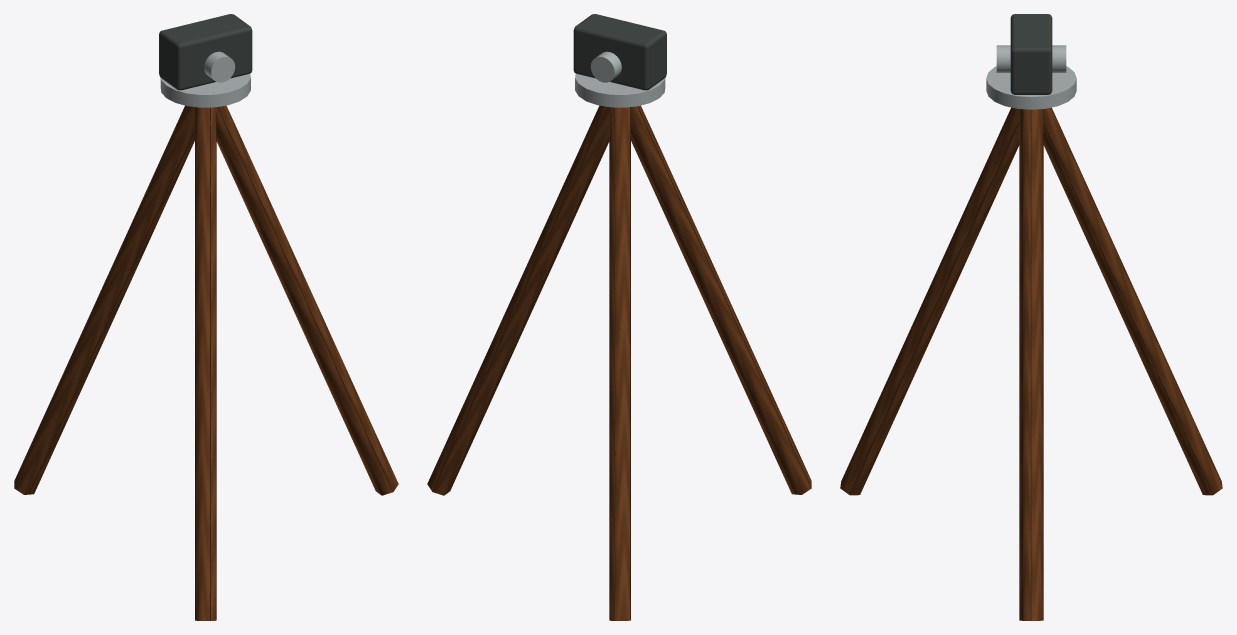
Rendered from prehistoric-expedition-sites-tripod-survey-frame-3e88da58__26118.glb.
The picture shows the model from 3 angles, left to right: view 1: azimuth 30°, elevation 25°; view 2: azimuth 150°, elevation 25°; view 3: azimuth 270°, elevation 25°; orthographic projection.
Parts seen in each view (by area): view 1: tripod-survey-frame; view 2: tripod-survey-frame; view 3: tripod-survey-frame.
Boxes of the visible parts, box(x1,y1,x2,y2) form: tripod-survey-frame: box(14, 14, 398, 620); tripod-survey-frame: box(427, 14, 811, 620); tripod-survey-frame: box(840, 14, 1222, 620).
Bounding box in the file's own units: 0.9622 × 1.6 × 1.1.
3 materials, 1 textured.
